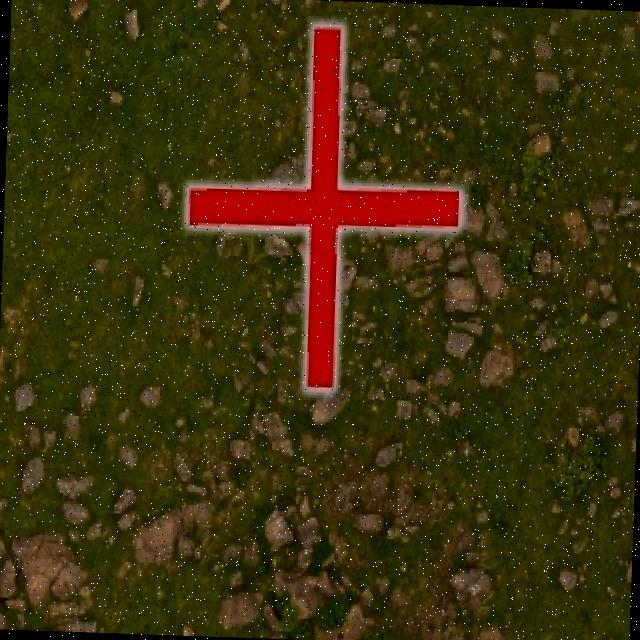x_marker: (181, 20, 465, 392)
